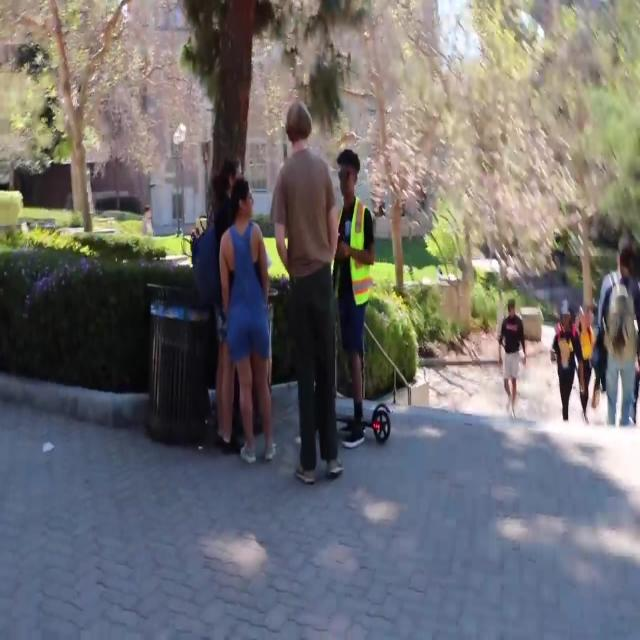Reflective-Jacket: (330, 192, 380, 309)
